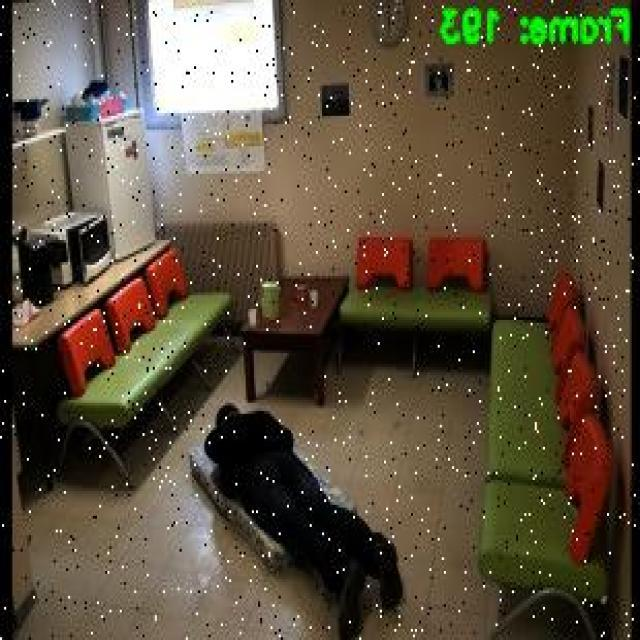fall: (206, 402, 406, 638)
